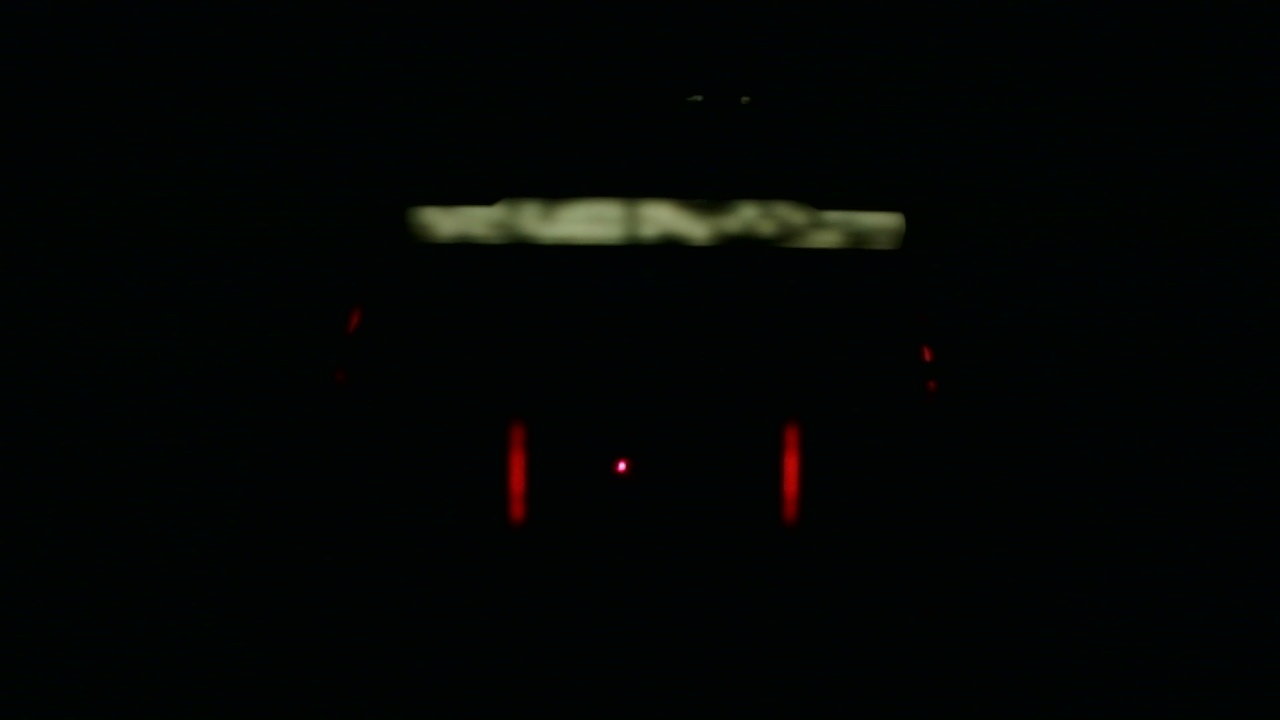lamp: (506, 414, 527, 526), (784, 416, 798, 521)
pair1: (507, 419, 800, 523)
